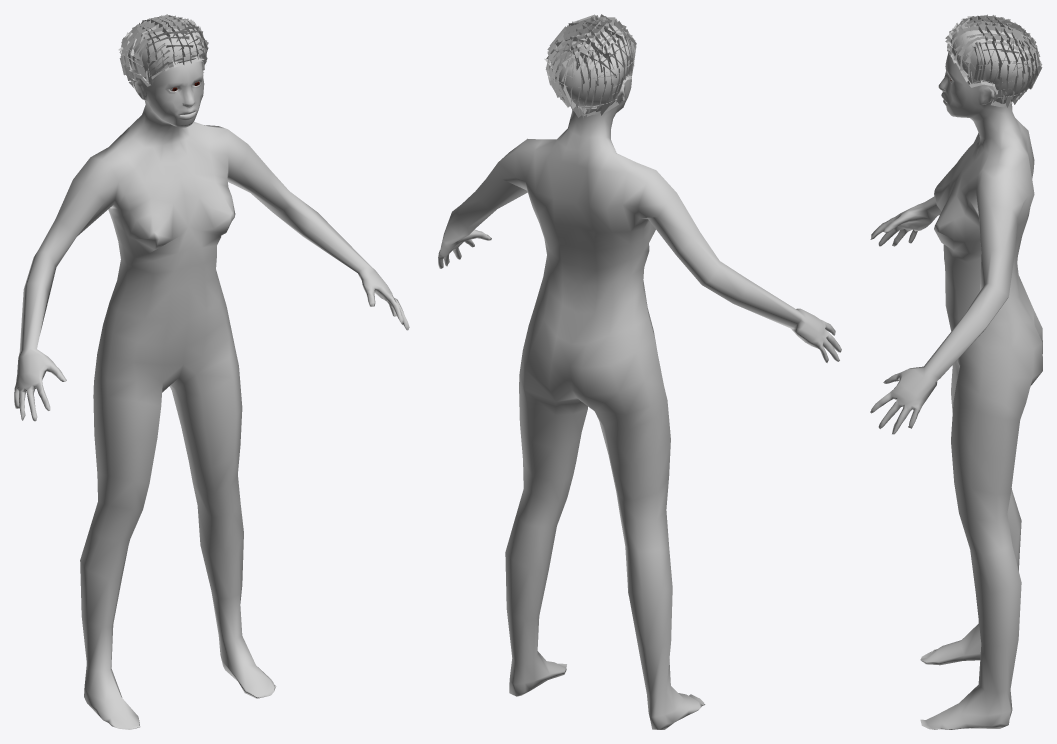
The model's file is npc07.fbx.
3 views of the same model, side by side, from view 1: azimuth 30°, elevation 25°; view 2: azimuth 150°, elevation 25°; view 3: azimuth 270°, elevation 25° (orthographic). The views are drawn at different scales.
Parts seen in each view (by area): view 1: female1605Mesh, afro01Mesh; view 2: female1605Mesh, afro01Mesh; view 3: female1605Mesh, afro01Mesh.
Part boxes in pixels (box(x1,y1,x2,y2)): female1605Mesh: box(14, 61, 409, 729); afro01Mesh: box(118, 14, 208, 87); female1605Mesh: box(438, 75, 841, 729); afro01Mesh: box(544, 14, 636, 118); female1605Mesh: box(870, 53, 1042, 729); afro01Mesh: box(945, 14, 1042, 107).
Size of the model in its own units: 10.11 by 16.81 by 3.91.
